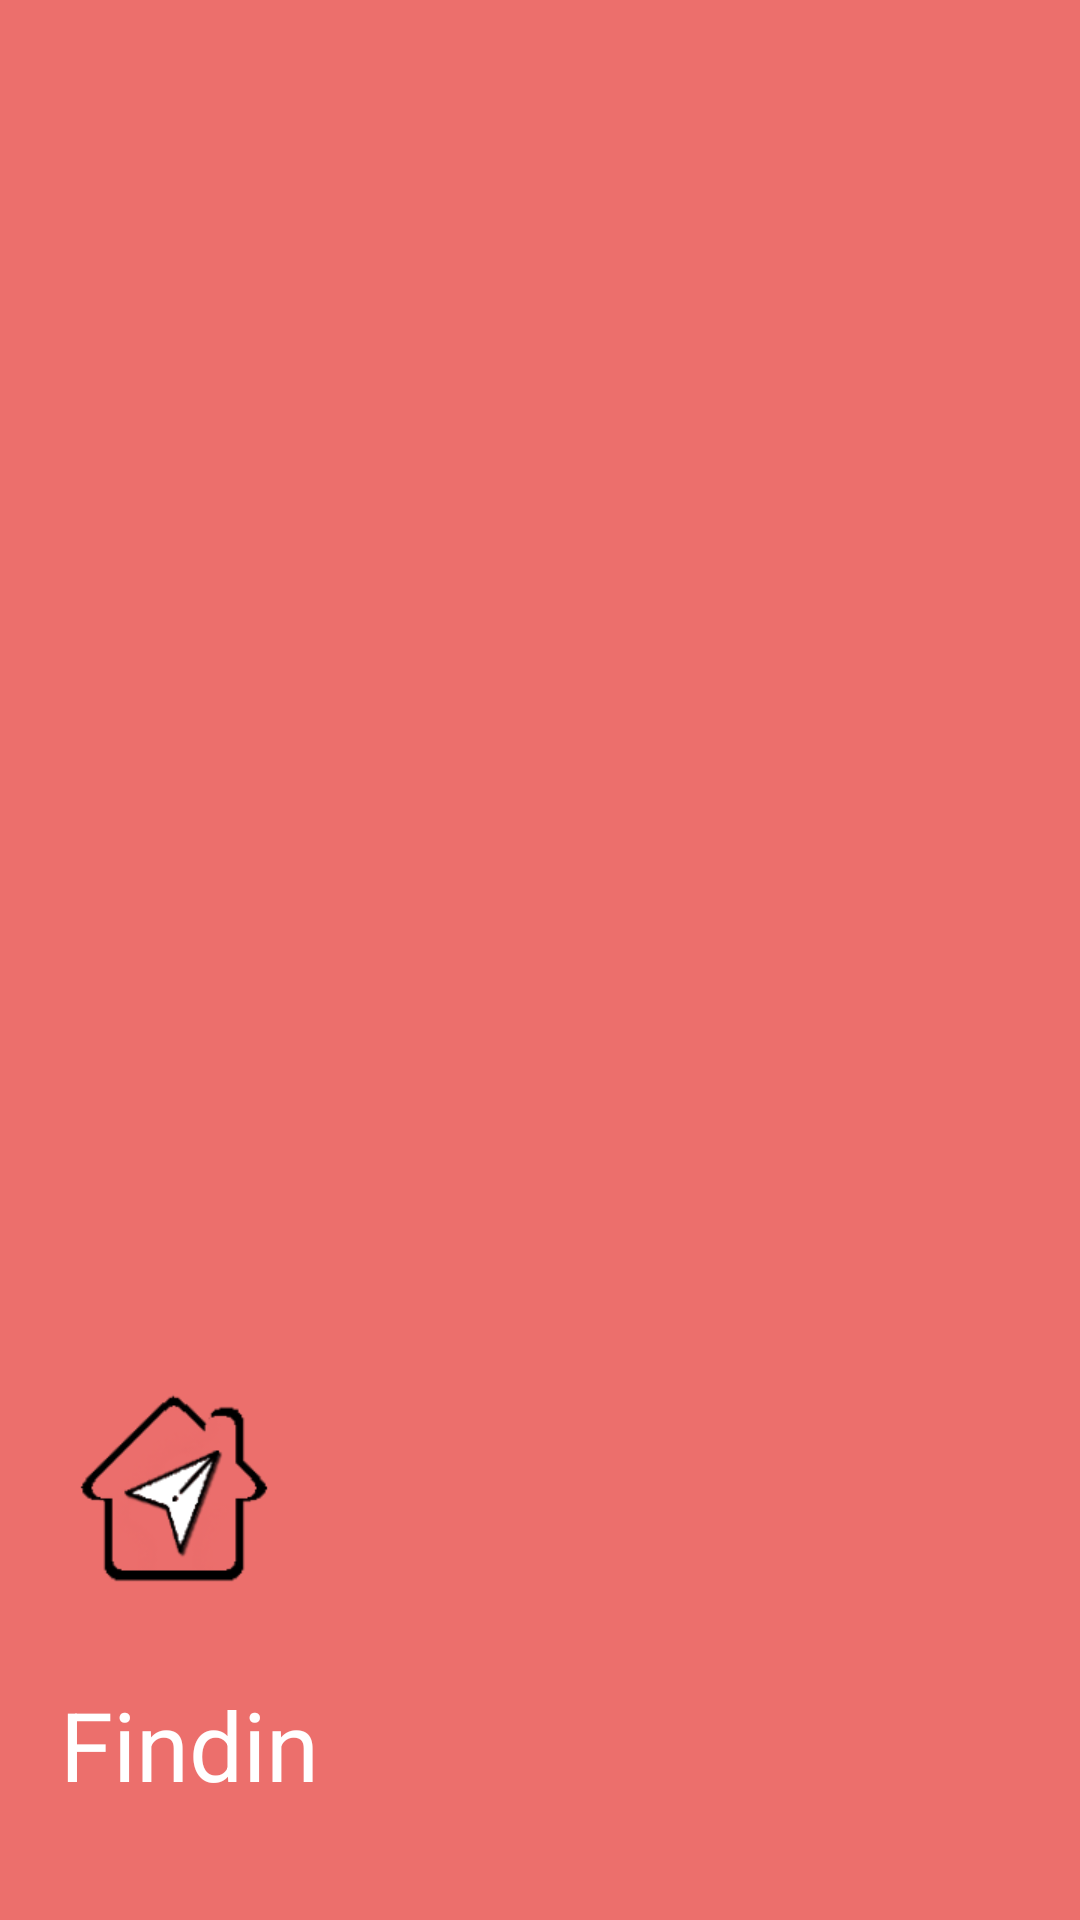

Point at icon controls on the screen. Image size 1080px x 1920px, points as point (x, y).
indoor nav: point (174, 1488)
